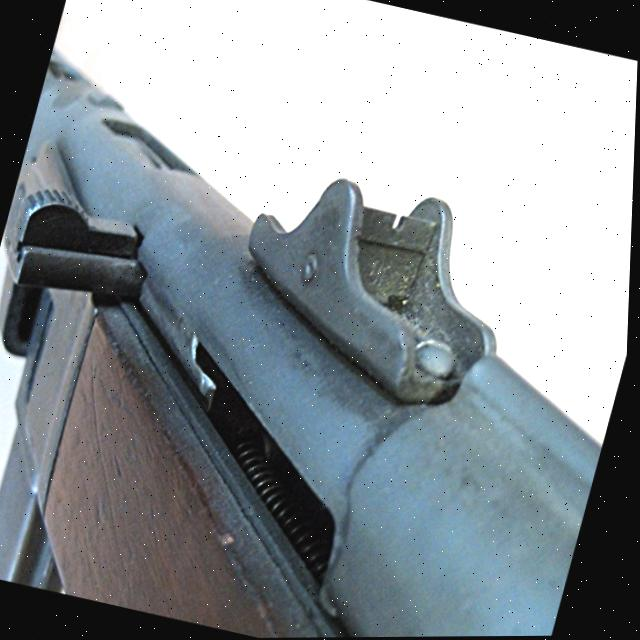firearm: (0, 38, 639, 640)
